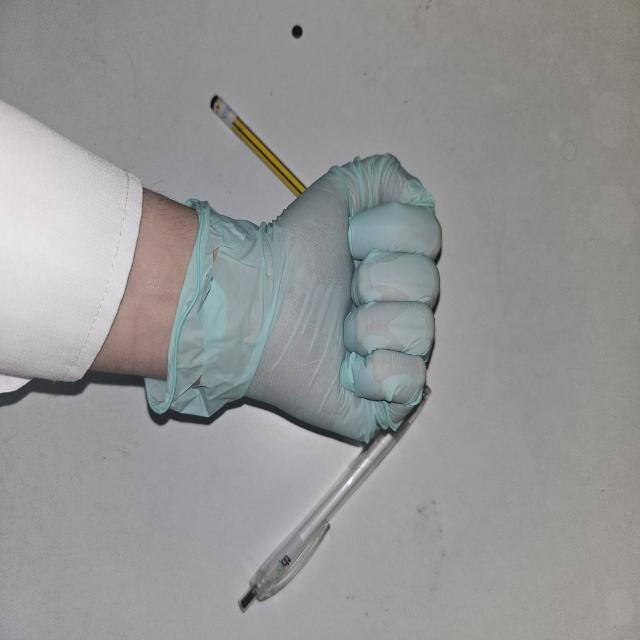gloves_damaged: (144, 150, 440, 443)
